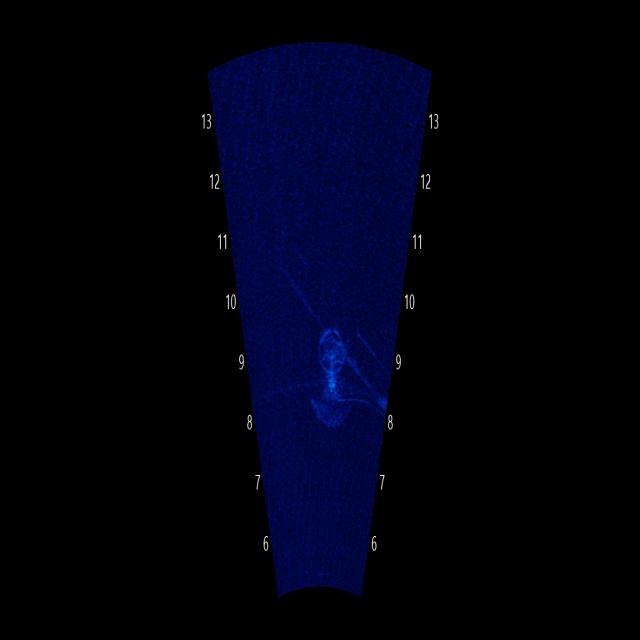circle: (309, 288, 355, 389)
